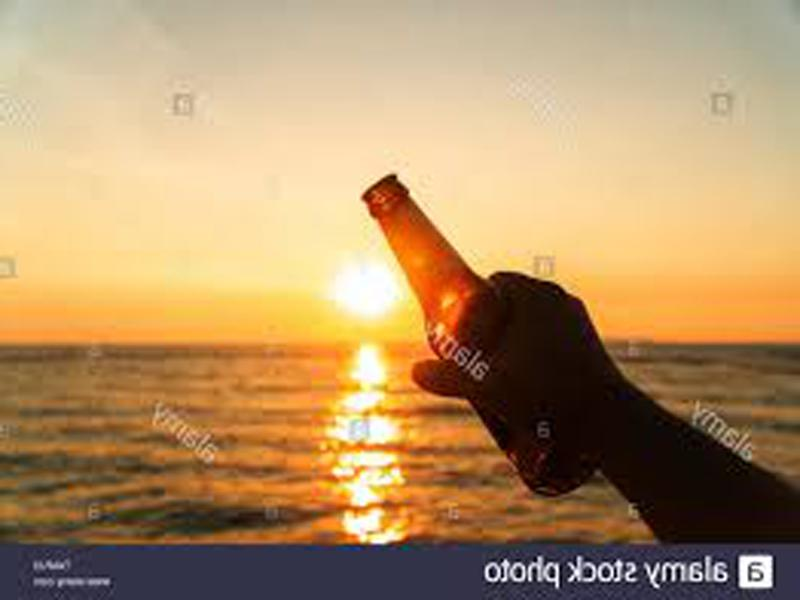Beer: (362, 169, 604, 497)
